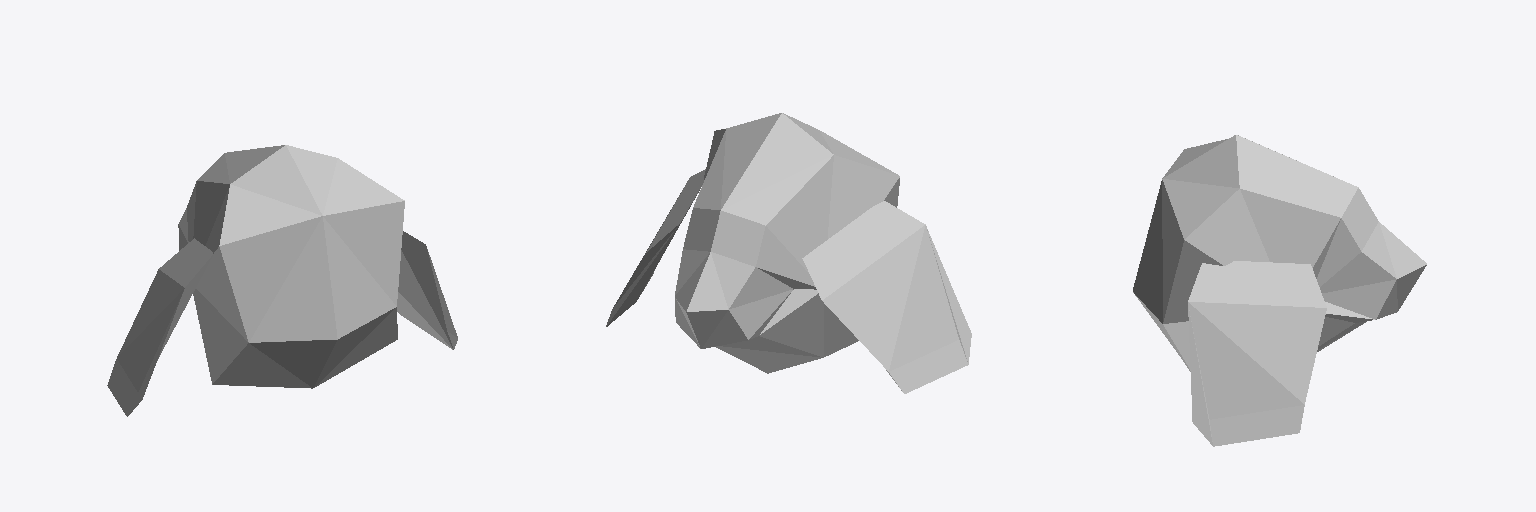
The model's file is bird.obj.
The picture shows the model from 3 angles: view 1: azimuth 30°, elevation 25°; view 2: azimuth 150°, elevation 25°; view 3: azimuth 270°, elevation 25°; orthographic projection.
Visible parts, largest first — view 1: Mesh; view 2: Mesh; view 3: Mesh.
Boxes of the visible parts, box(x1,y1,x2,y2) form: Mesh: box(107, 145, 457, 416); Mesh: box(606, 113, 971, 393); Mesh: box(1133, 135, 1426, 446).
Bounding box in the file's own units: 3.4 × 2.47 × 2.64.